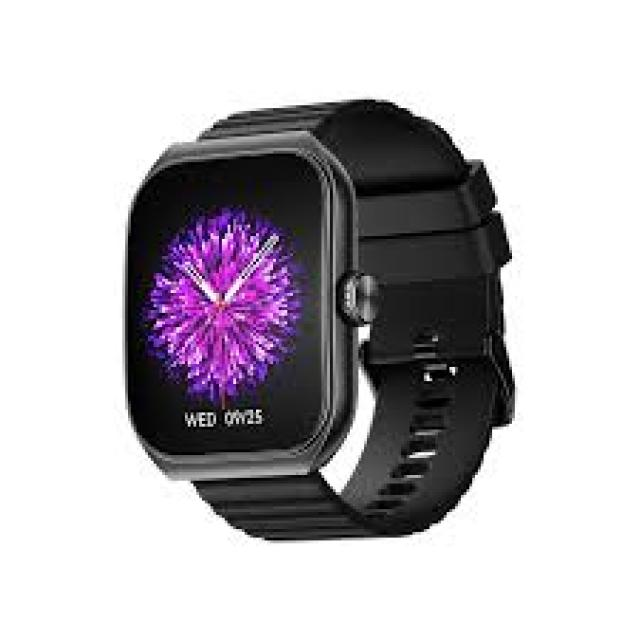objects: (128, 97, 514, 538)
